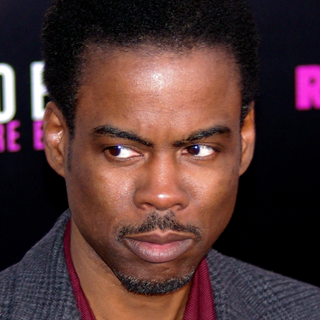eye: (97, 141, 147, 165), (176, 138, 224, 162)
